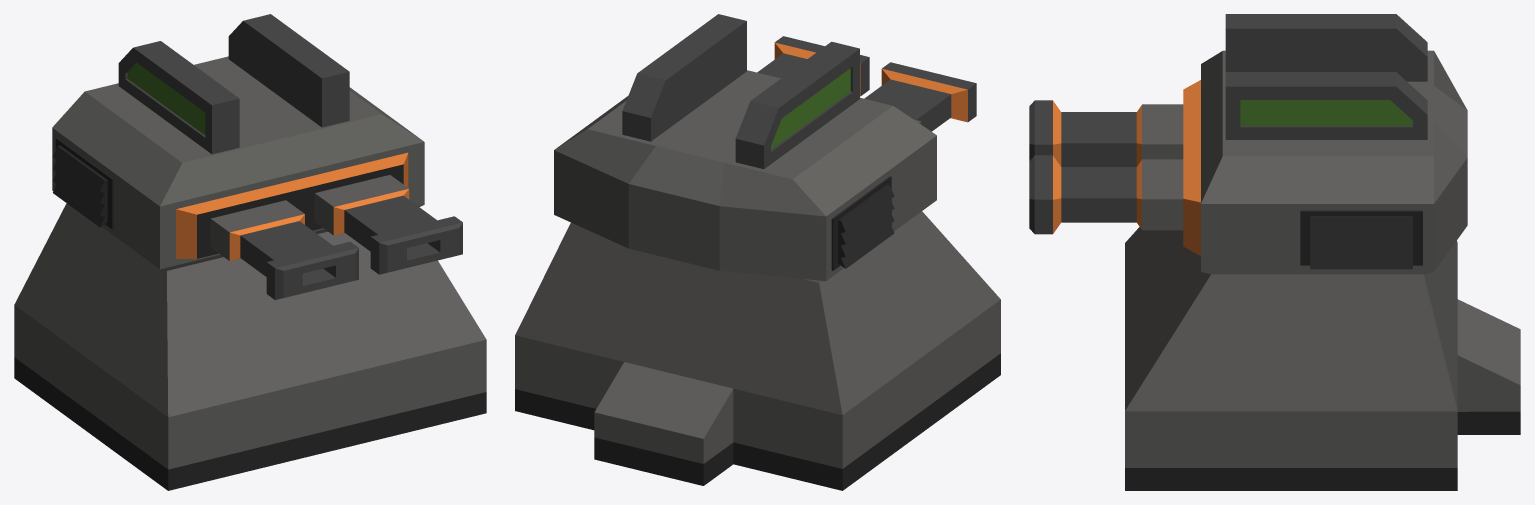
The model's file is size1Gun.glb.
3 views of the same model, side by side, from view 1: azimuth 30°, elevation 25°; view 2: azimuth 150°, elevation 25°; view 3: azimuth 270°, elevation 25° (orthographic). The views are drawn at different scales.
Parts seen in each view (by area): view 1: Size 1 Gun; view 2: Size 1 Gun; view 3: Size 1 Gun.
Boxes of the visible parts, x1,y1,x2,y2 form: Size 1 Gun: [14, 14, 486, 490]; Size 1 Gun: [515, 14, 1000, 490]; Size 1 Gun: [1029, 14, 1520, 490].
Bounding box in the file's own units: 0.7927 × 0.7838 × 0.9784.
